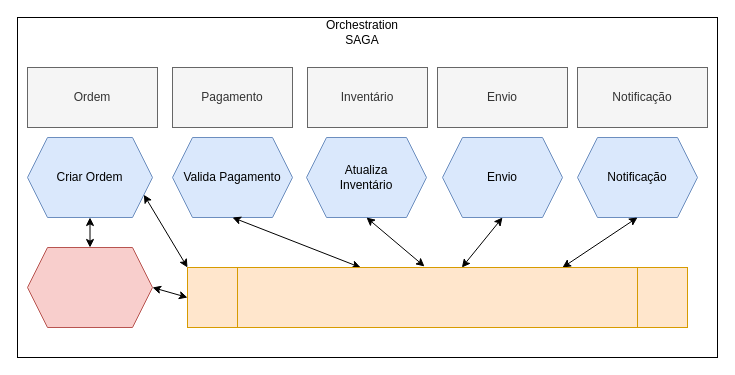
The diagram is 735 pixels wide and 375 high, and some of its shapes have lost their labels. Here are the shapes that lost their labels. From the top down, the centre of each, then its label:
At (89,287): "Ordem Finalizada".
At (437,297): "Orchestração (Single point-of-failure)".
